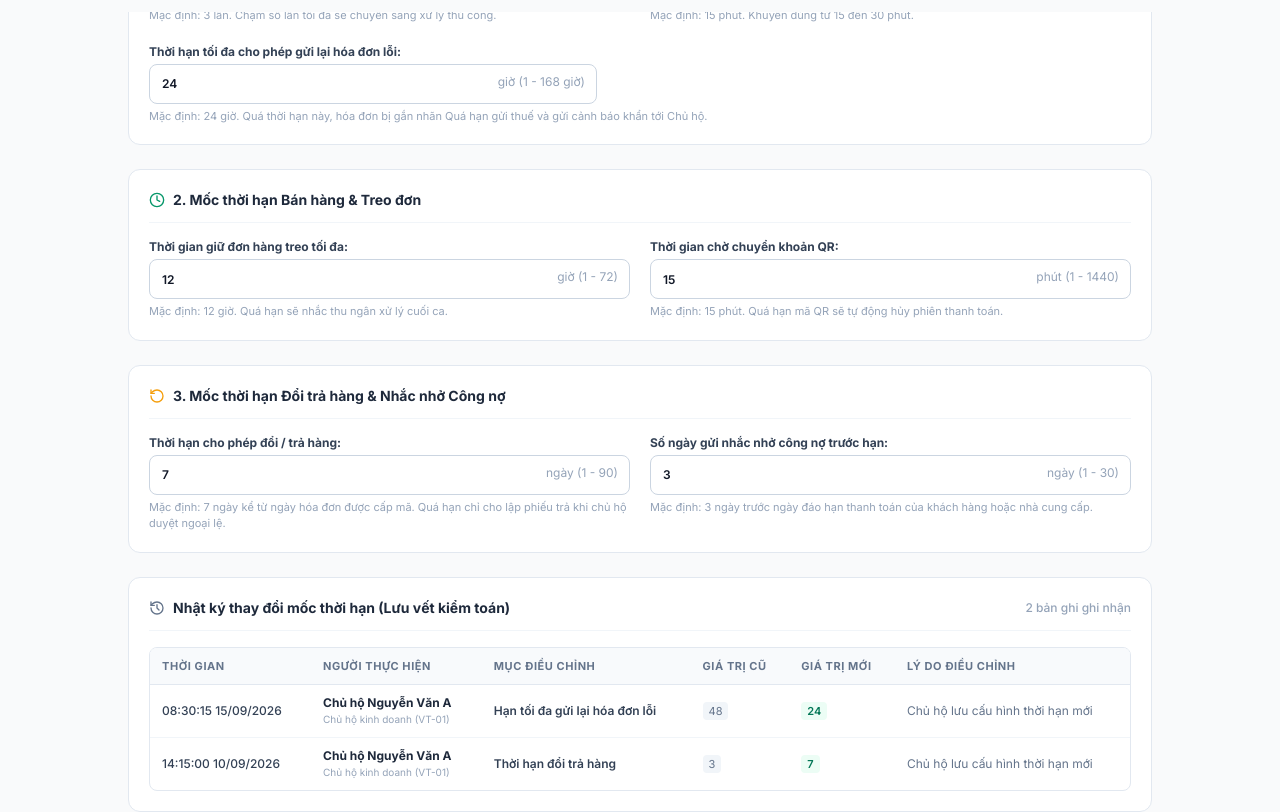
Scenario: Cấu hình các mốc thời hạn nghiệp vụ của hộ › TC-03: Hiển thị cảnh báo màu vàng khi các mốc thời hạn được nới lỏng quá ngưỡng khuyến nghị
(page scrolled)
Step 1. Replace the text in the number field named "Thời hạn tối đa cho phép gửi lại hóa đơn lỗi" with "48" → point(373, 84), box [149, 64, 597, 104]
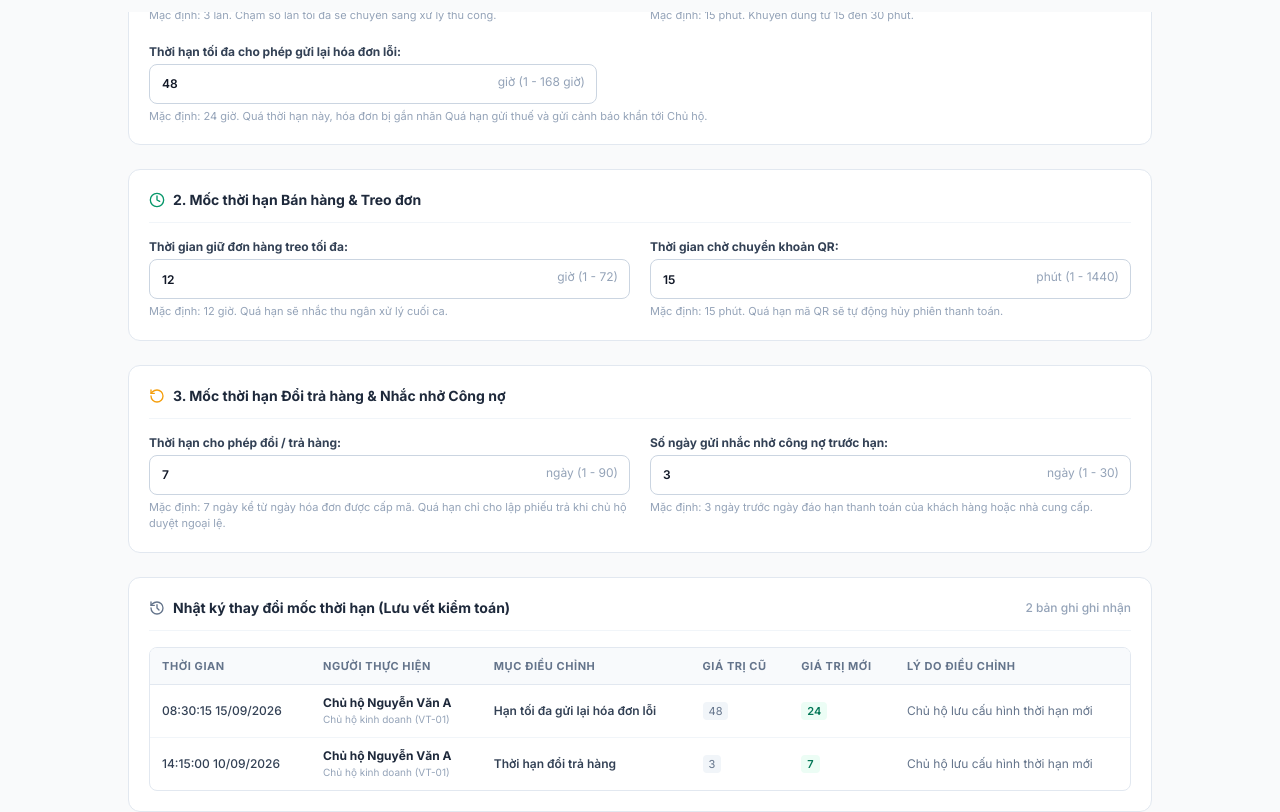
Step 2. Replace the text in the number field named "Thời hạn cho phép đổi / trả hàng" with "45" → point(390, 474), box [149, 454, 630, 494]
(page scrolled)
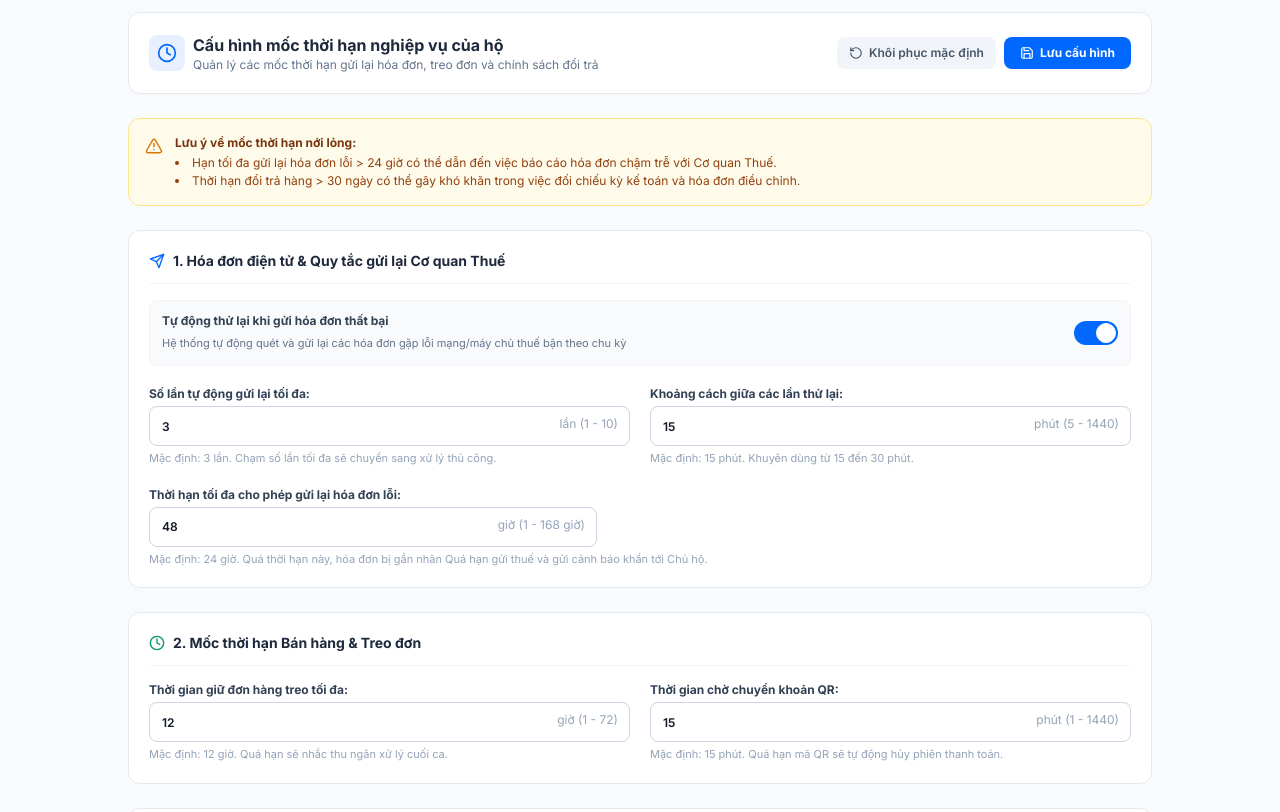
Expected: the text "Lưu ý về mốc thời hạn nới lỏng:" is shown, [175, 135, 356, 150]
Expected: the list item "Hạn tối đa gửi lại hóa đơn lỗi > 24 giờ có thể dẫn đến việc báo cáo hóa đơn chậm trễ" is shown, [192, 155, 777, 170]
Expected: the list item "Thời hạn đổi trả hàng > 30 ngày có thể gây khó khăn trong việc đối chiếu kỳ kế toán" is shown, [192, 173, 800, 188]
